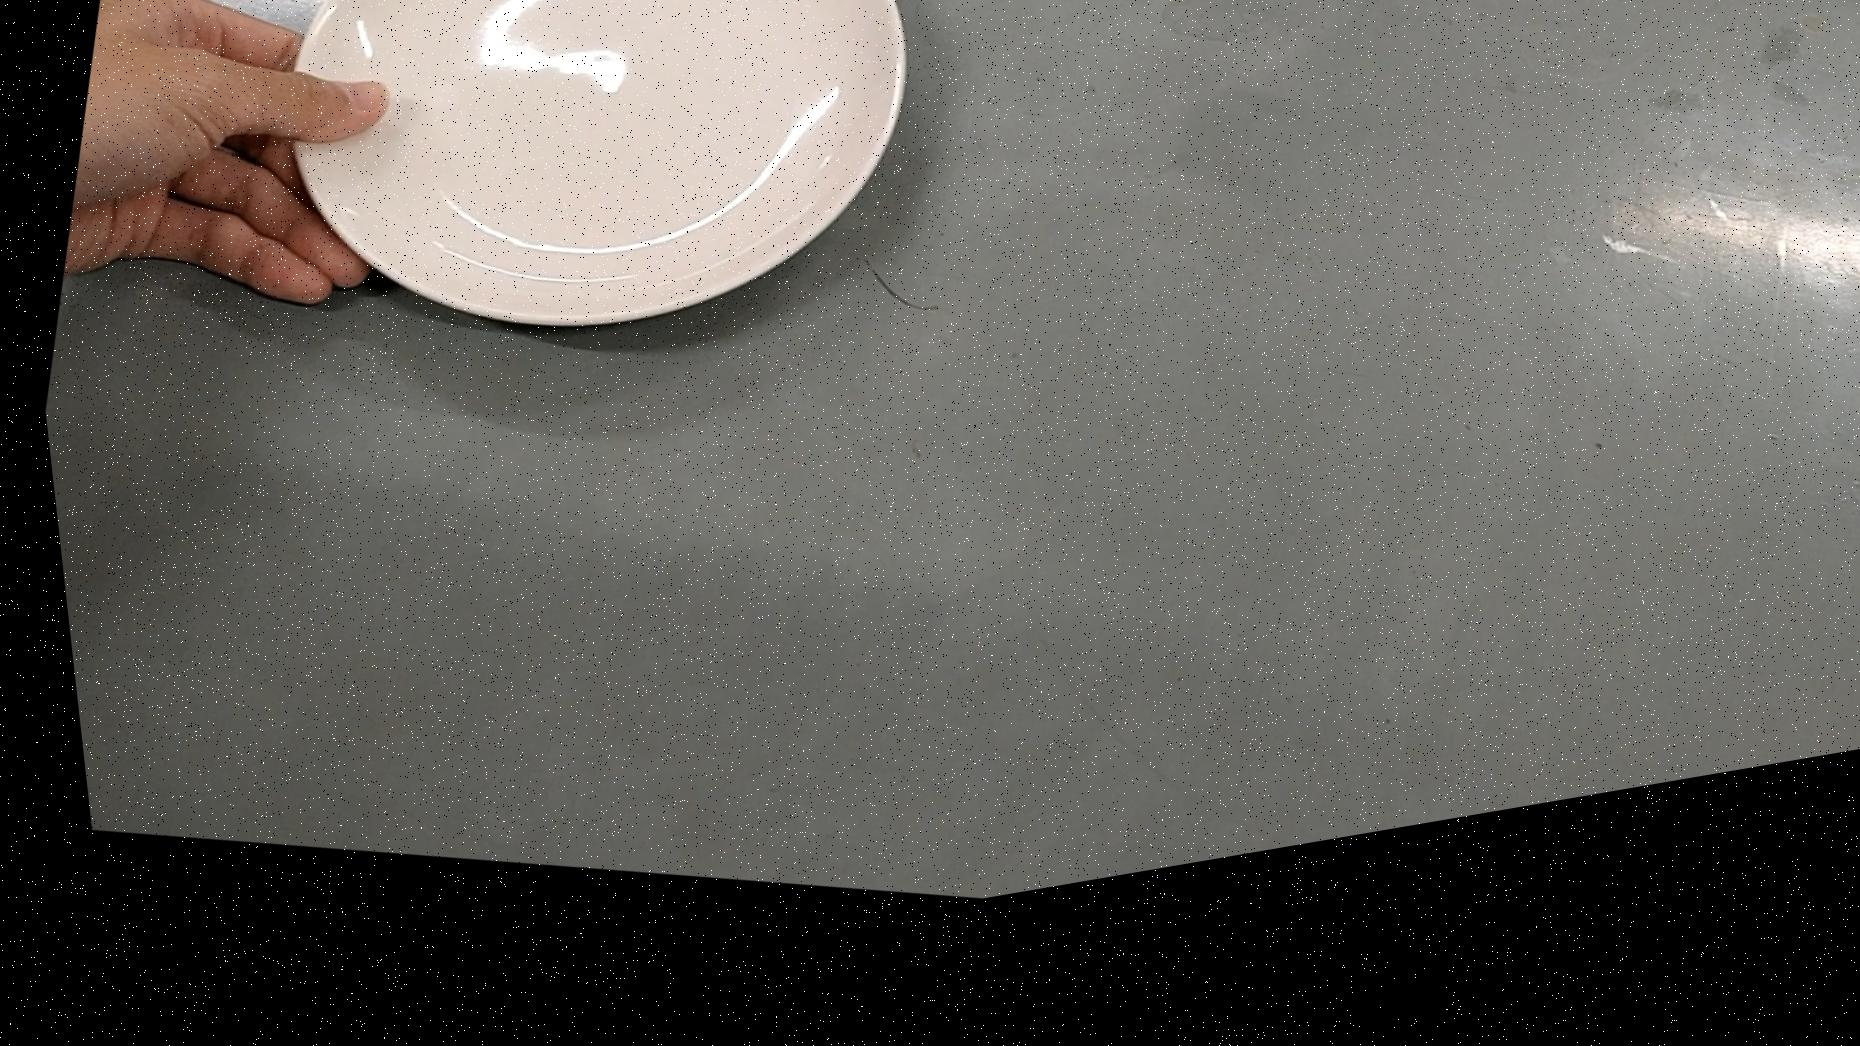plate: (224, 0, 971, 457)
